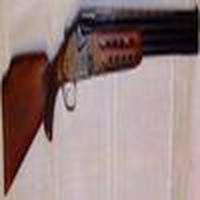gun: (5, 11, 195, 187)
